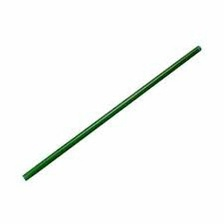drinking_straw: (16, 38, 206, 185)
